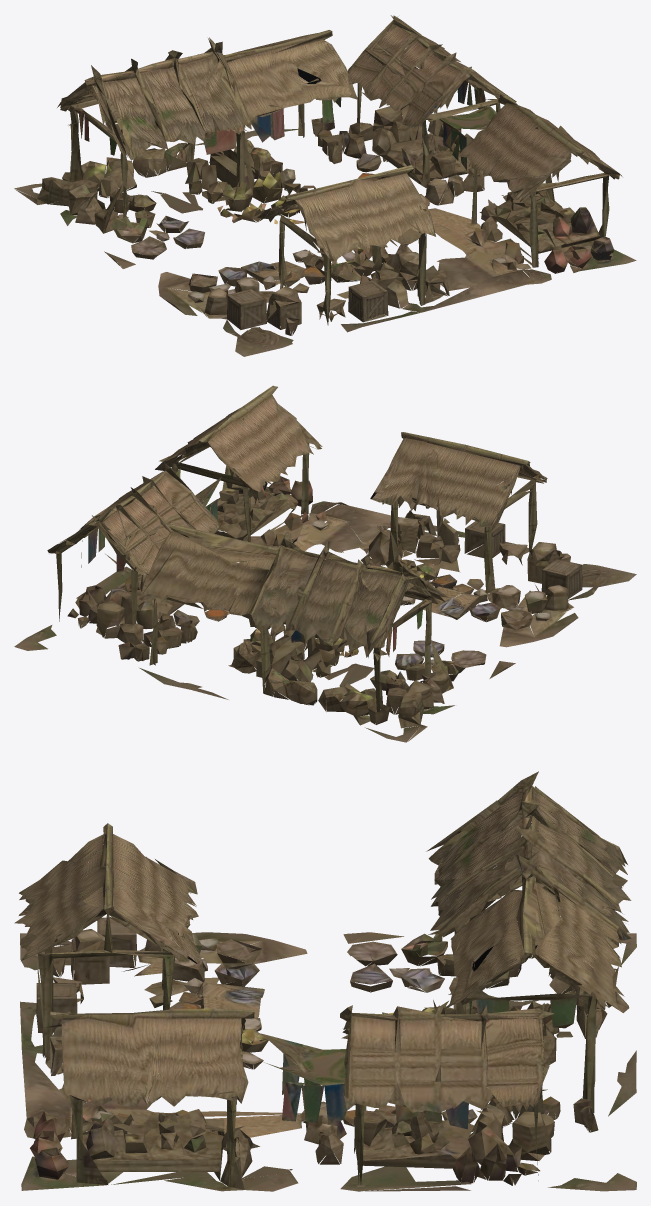
The model's file is market.glb.
3 views of the same model, one above another, from view 1: azimuth 30°, elevation 25°; view 2: azimuth 150°, elevation 25°; view 3: azimuth 270°, elevation 25° (orthographic). The views are drawn at different scales.
Parts seen in each view (by area): view 1: output_unwrapped; view 2: output_unwrapped; view 3: output_unwrapped.
Boxes of the visible parts, box(x1,y1,x2,y2) form: output_unwrapped: box(14, 15, 636, 356); output_unwrapped: box(14, 385, 636, 742); output_unwrapped: box(14, 771, 636, 1191).
Size of the model in its own units: 14 by 4.85 by 14.04.
1 material, 1 textured.
